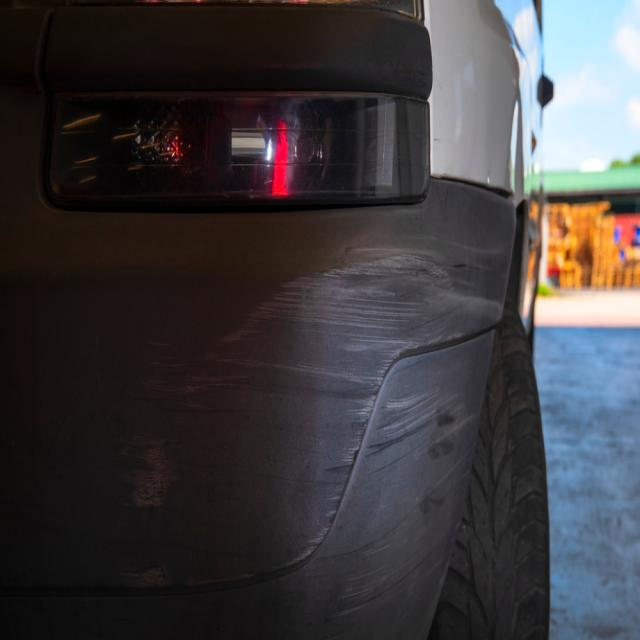Rayure: (97, 236, 505, 604)
